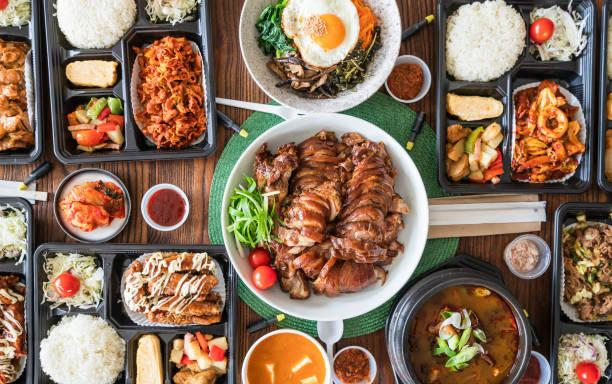Braised Crucian Carp: (221, 112, 425, 321), (437, 2, 595, 194), (30, 242, 231, 381), (42, 1, 214, 162), (389, 256, 536, 383), (236, 0, 399, 114), (548, 201, 610, 380), (241, 327, 332, 384)
